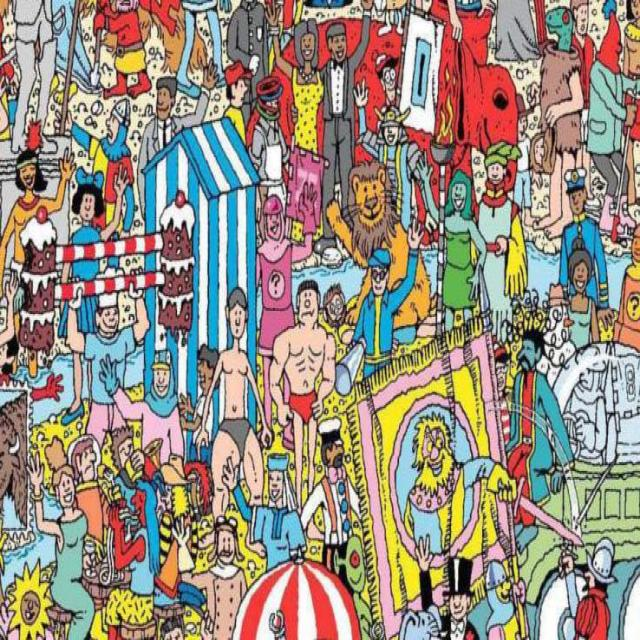waldo: (372, 50, 399, 104)
